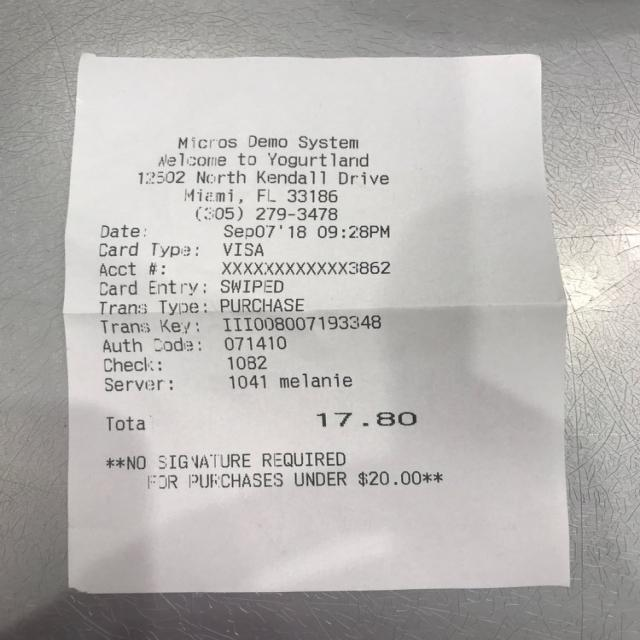TotalPrice: (92, 403, 467, 437)
